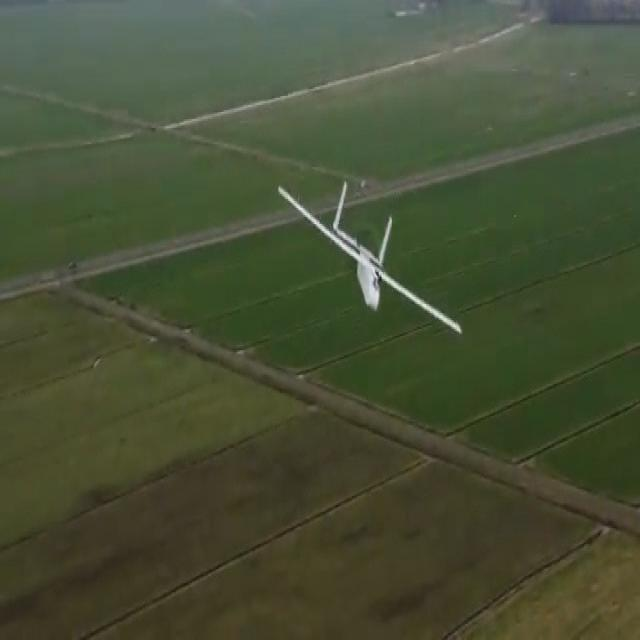iha: (276, 177, 465, 343)
